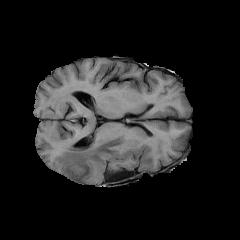glioma: (56, 134, 126, 181)
